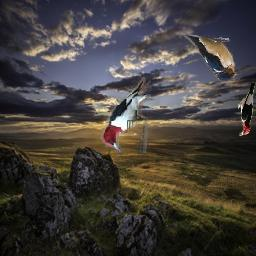Swallow: (185, 35, 238, 82)
Woodpecker: (99, 77, 151, 153), (239, 84, 256, 137)
